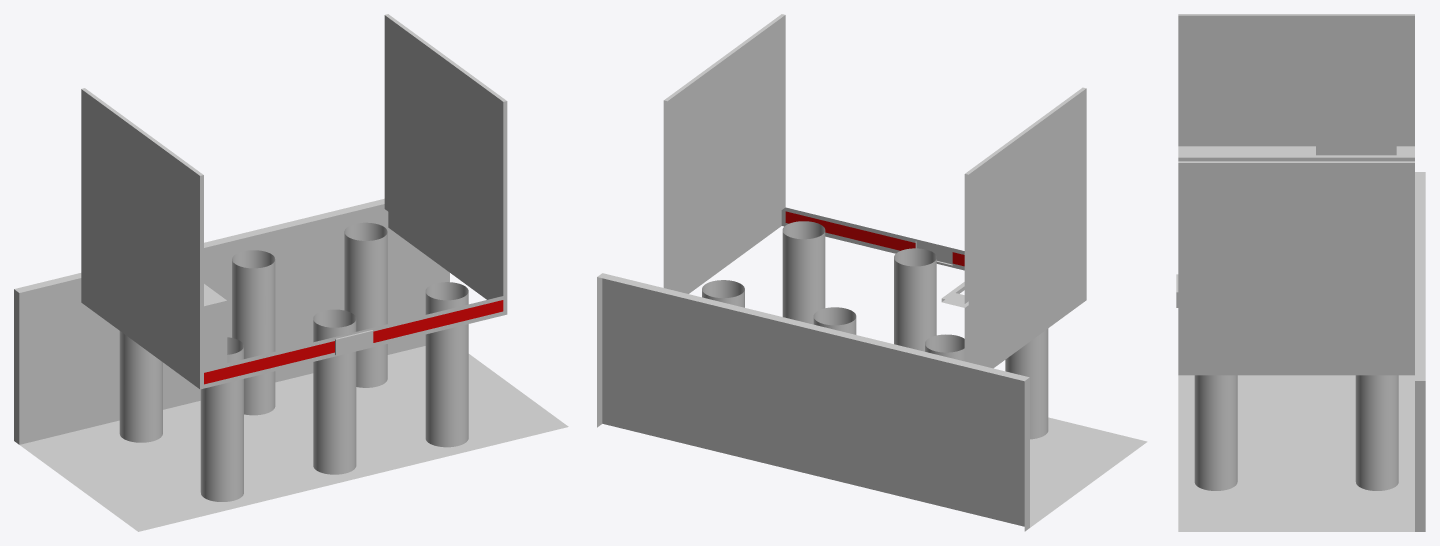
Rendered from room_gallery.fbx.
3 views of the same model, side by side, from view 1: azimuth 30°, elevation 25°; view 2: azimuth 150°, elevation 25°; view 3: azimuth 270°, elevation 25° (orthographic).
Parts seen in each view (by area): view 1: Room; view 2: Room; view 3: Room.
Part boxes in pixels (<box>): Room: <box>14,14,568,531</box>; Room: <box>597,14,1147,531</box>; Room: <box>1176,14,1425,531</box>.
Bounding box in the file's own units: 4600 × 3480 × 2320.
